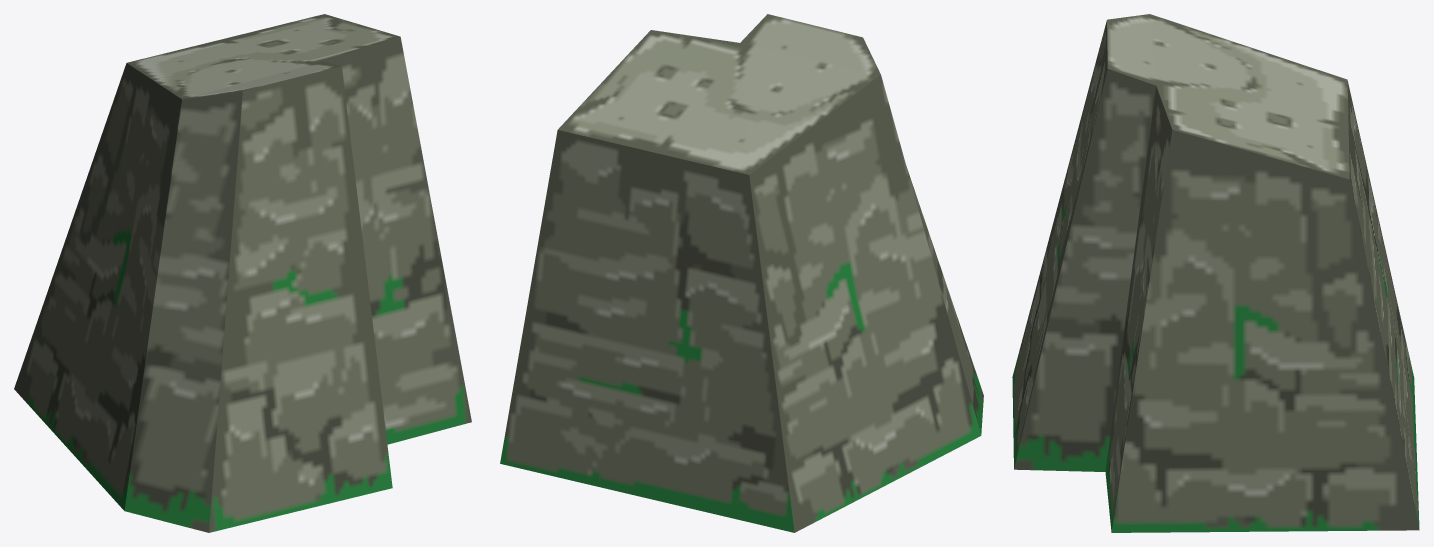
The model's file is ForestRock_Large02.fbx.
3 views of the same model, side by side, from view 1: azimuth 30°, elevation 25°; view 2: azimuth 150°, elevation 25°; view 3: azimuth 270°, elevation 25° (orthographic). The views are drawn at different scales.
Visible parts, largest first — view 1: ForestRock_Large02; view 2: ForestRock_Large02; view 3: ForestRock_Large02.
Boxes of the visible parts, box(x1,y1,x2,y2) form: ForestRock_Large02: box(14, 14, 471, 532); ForestRock_Large02: box(500, 14, 983, 532); ForestRock_Large02: box(1012, 14, 1419, 532).
Bounding box in the file's own units: 20.74 × 21.92 × 20.29.
